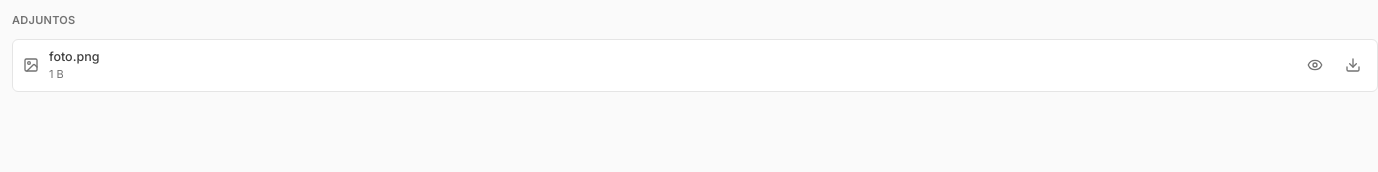
Test: AttachmentGallery › muestra el error si falla la carga de la vista previa
The width and height of the screenshot is (1378, 172).
Click the button named "Ver foto.png".
click(1315, 65)  # box [1301,51,1329,79]
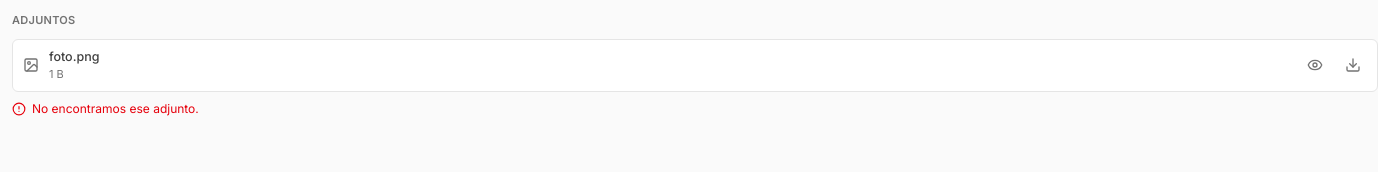
Now the text "No encontramos ese adjunto." is shown, box [12,101,199,116]
